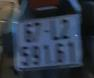1: (66, 39, 77, 64), (43, 44, 52, 65)
2: (61, 19, 71, 39)
5: (31, 44, 41, 66), (21, 44, 30, 68)
6: (23, 23, 34, 43), (55, 42, 64, 64)
7: (35, 22, 43, 42)
L: (48, 18, 59, 41)
